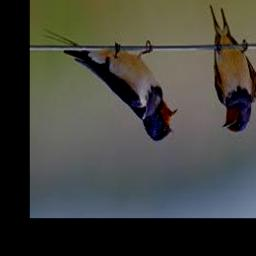Swallow: (42, 29, 180, 142), (211, 5, 256, 135)
